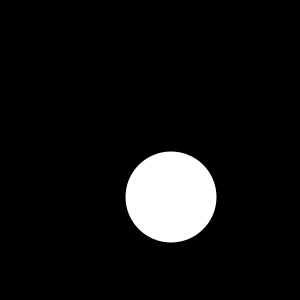rectangle: (125, 151, 216, 242)
